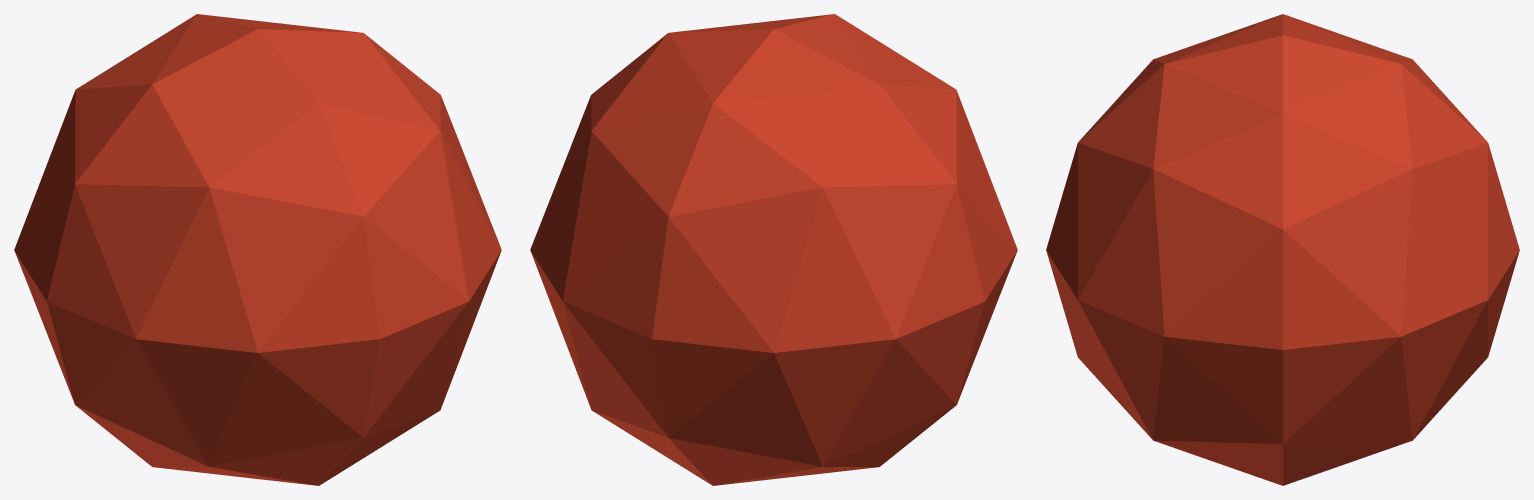
File: planet05.FBX
3 views of the same model, side by side, from view 1: azimuth 30°, elevation 25°; view 2: azimuth 150°, elevation 25°; view 3: azimuth 270°, elevation 25° (orthographic). The views are drawn at different scales.
Parts seen in each view (by area): view 1: planet05; view 2: planet05; view 3: planet05.
Part boxes in pixels (left/top/right/bottom): planet05: left=14, top=14, right=501, bottom=485; planet05: left=530, top=14, right=1017, bottom=485; planet05: left=1046, top=14, right=1519, bottom=485.
Bounding box in the file's own units: 9.22 × 9.22 × 9.22.
